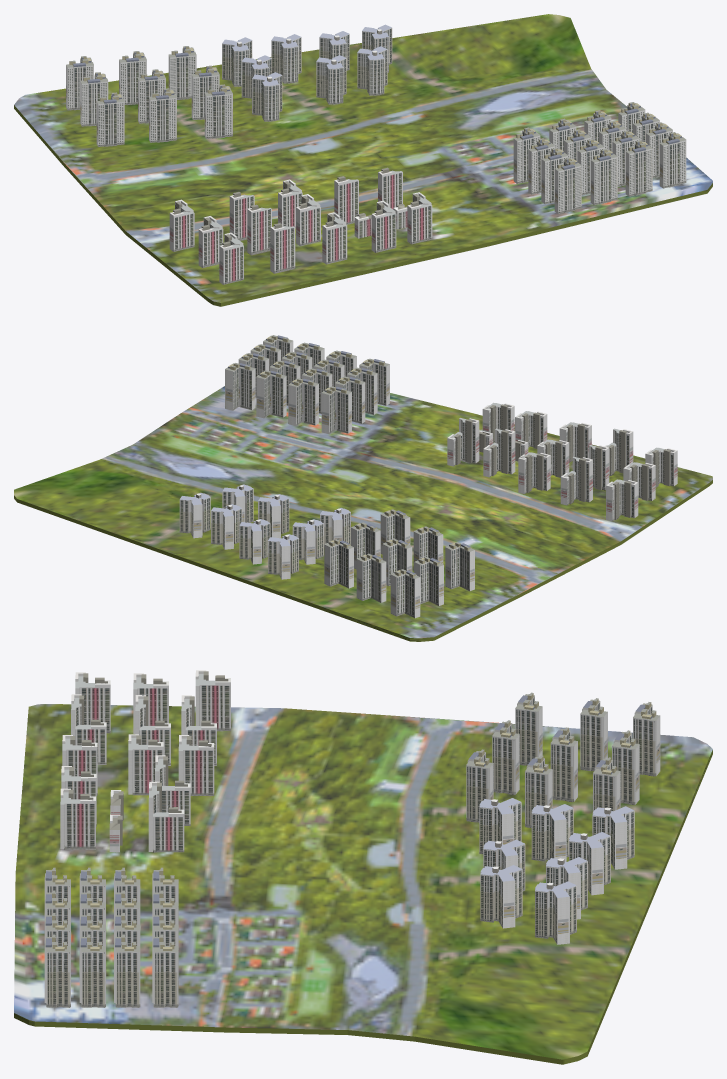
The model's file is ICJ00102_A.glb.
3 views of the same model, one above another, from view 1: azimuth 30°, elevation 25°; view 2: azimuth 150°, elevation 25°; view 3: azimuth 270°, elevation 25° (orthographic). The views are drawn at different scales.
Visible parts, largest first — view 1: MainBuilding; view 2: MainBuilding; view 3: MainBuilding.
Boxes of the visible parts, x1,y1,x2,y2 form: MainBuilding: [14, 14, 712, 306]; MainBuilding: [14, 335, 712, 641]; MainBuilding: [14, 670, 712, 1064].
Size of the model in its own units: 9.51 by 0.8109 by 7.9.
1 material, 1 textured.
